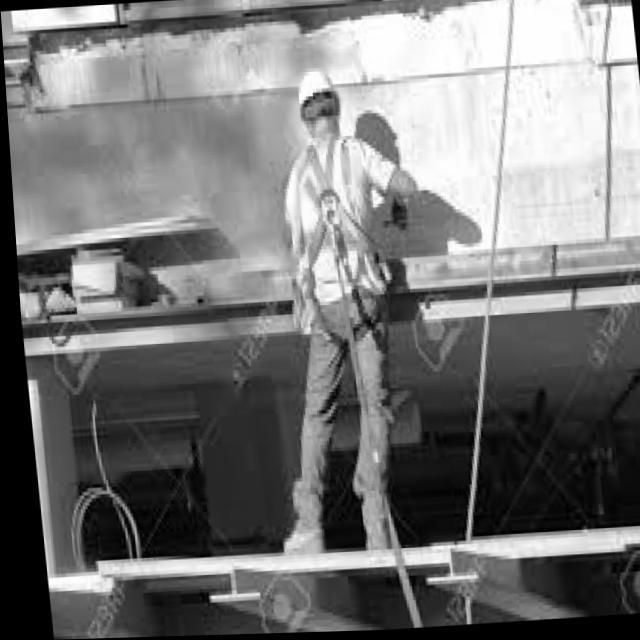belt: (284, 125, 392, 370)
